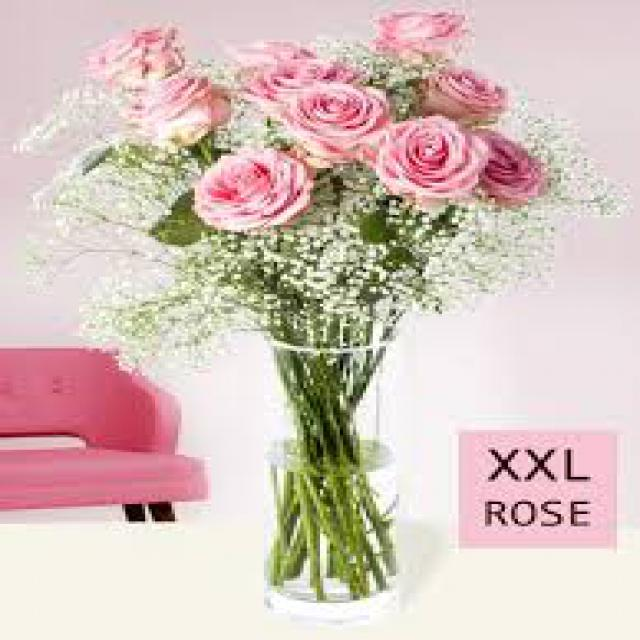gypsophila: (309, 197, 546, 333), (54, 260, 266, 380), (31, 164, 198, 258), (14, 68, 132, 160)
